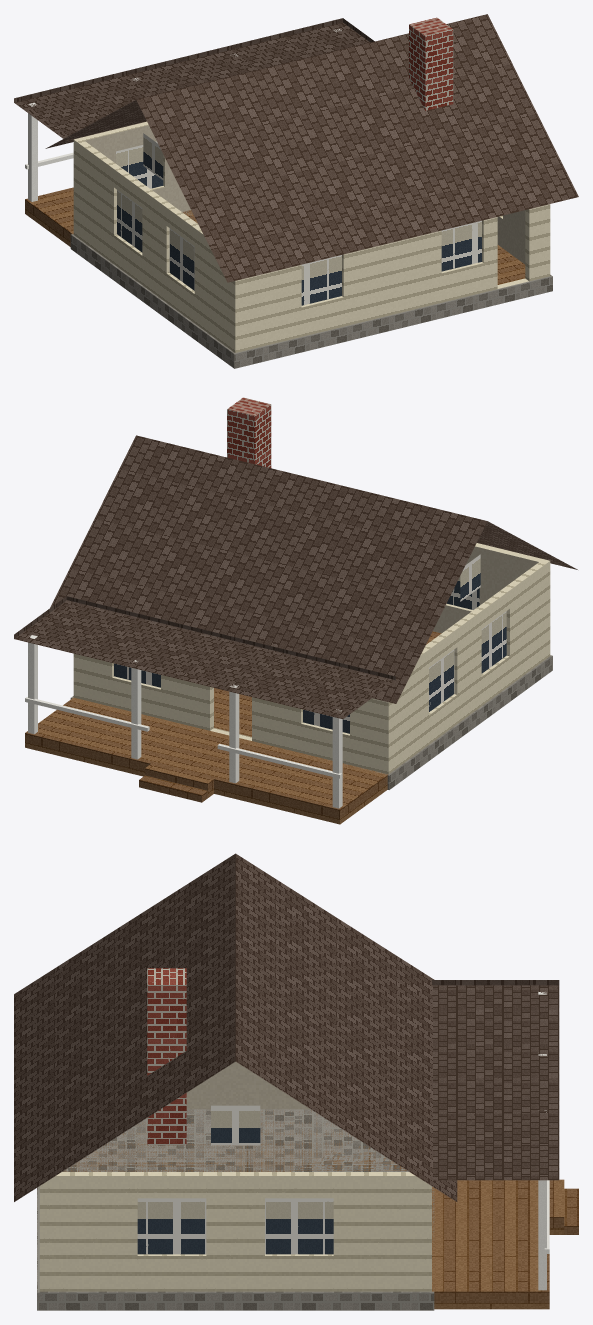
File: farmhouse_cream.glb
3 renders of one model, top to bottom at view 1: azimuth 30°, elevation 25°; view 2: azimuth 150°, elevation 25°; view 3: azimuth 270°, elevation 25°, orthographic. The views are drawn at different scales.
Parts seen in each view (by area): view 1: farmhouse_cream; view 2: farmhouse_cream; view 3: farmhouse_cream.
Part boxes in pixels (x1=…): farmhouse_cream: x1=14, y1=14, x2=578, y2=368; farmhouse_cream: x1=14, y1=397, x2=577, y2=824; farmhouse_cream: x1=14, y1=853, x2=578, y2=1310.
Size of the model in its own units: 10.04 by 6.6 by 11.52.
8 materials, 8 textured.
